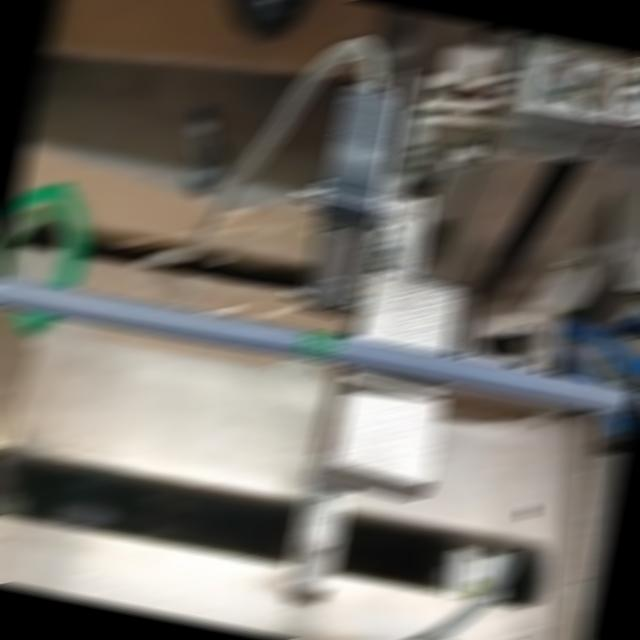green: (296, 331, 342, 362)
